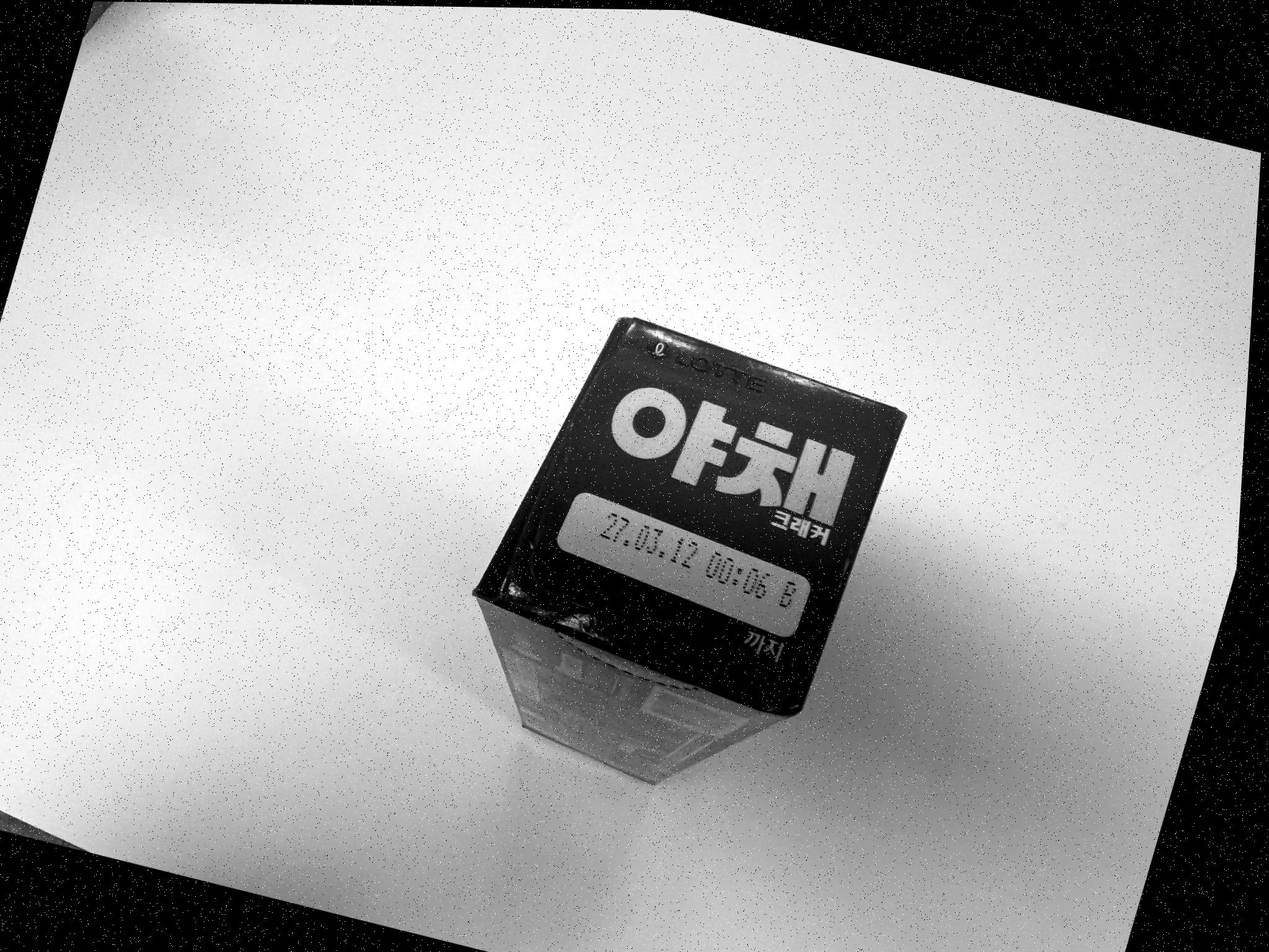cracker_vege: (472, 313, 909, 789)
